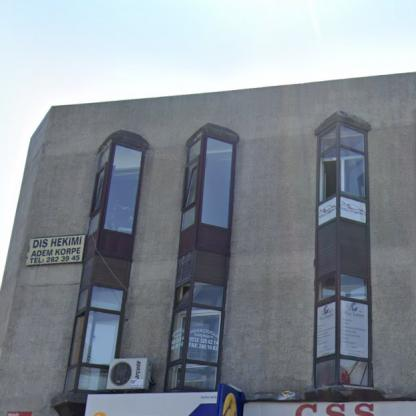window: (164, 282, 224, 390), (316, 275, 370, 387), (316, 123, 367, 229), (88, 141, 145, 235), (181, 134, 233, 232), (68, 285, 125, 369)
